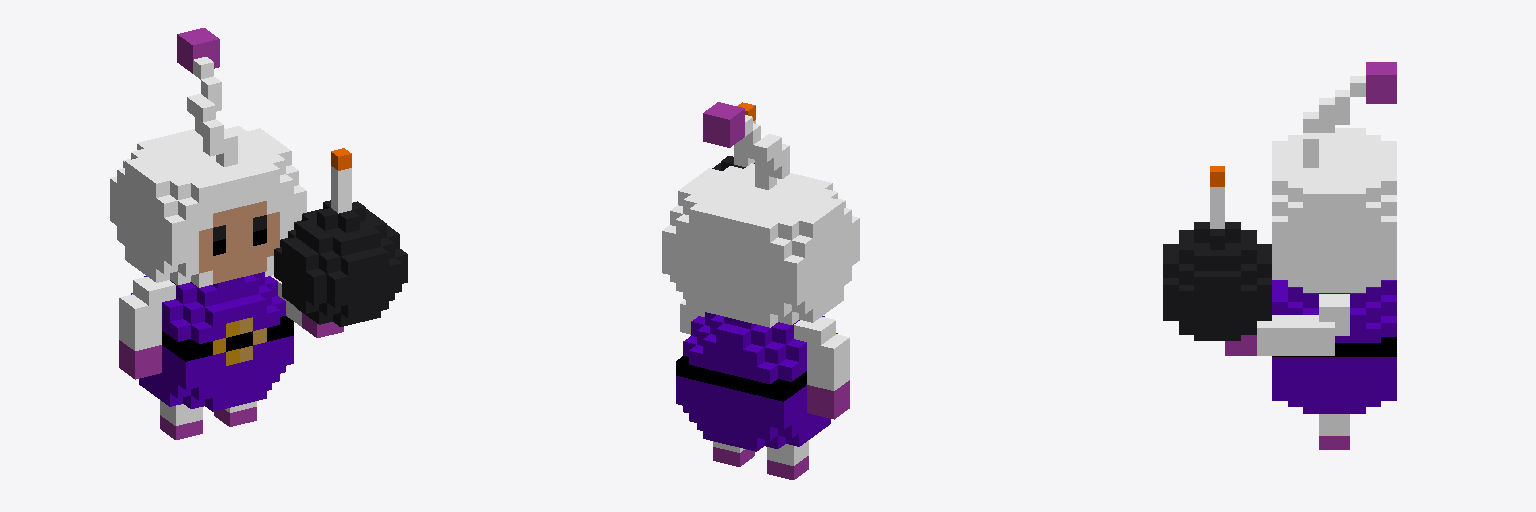
The picture shows the model from 3 angles: view 1: azimuth 30°, elevation 25°; view 2: azimuth 150°, elevation 25°; view 3: azimuth 270°, elevation 25°; orthographic projection.
Parts seen in each view (by area): view 1: bboi_bomb2; view 2: bboi_bomb2; view 3: bboi_bomb2.
Boxes of the visible parts, x1,y1,x2,y2 form: bboi_bomb2: [110, 28, 407, 439]; bboi_bomb2: [662, 102, 859, 479]; bboi_bomb2: [1163, 62, 1396, 449].
Size of the model in its own units: 15 by 26 by 15.
Materials: 1 (1 with a texture image).